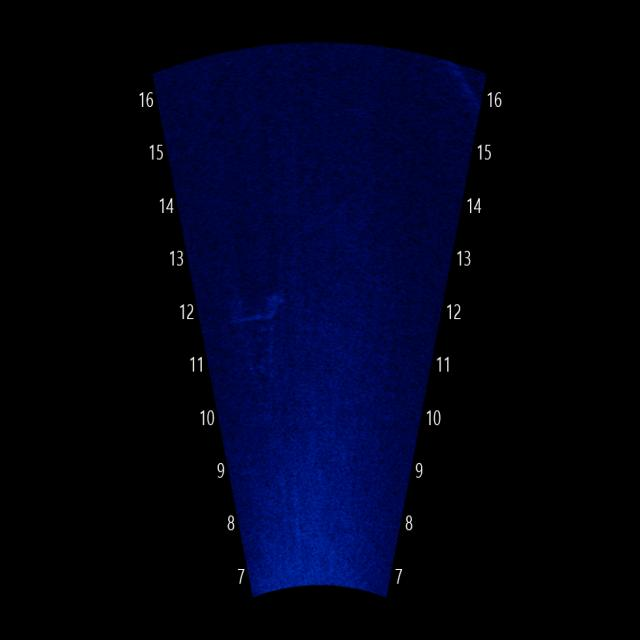triangle: (227, 285, 291, 436)
